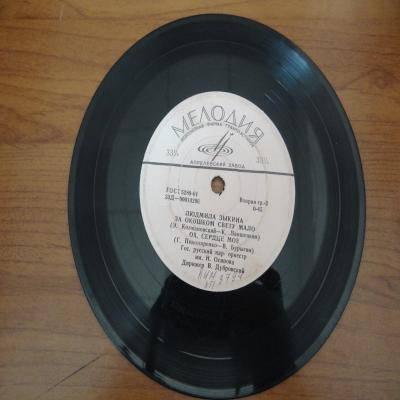other: (67, 14, 367, 400)
